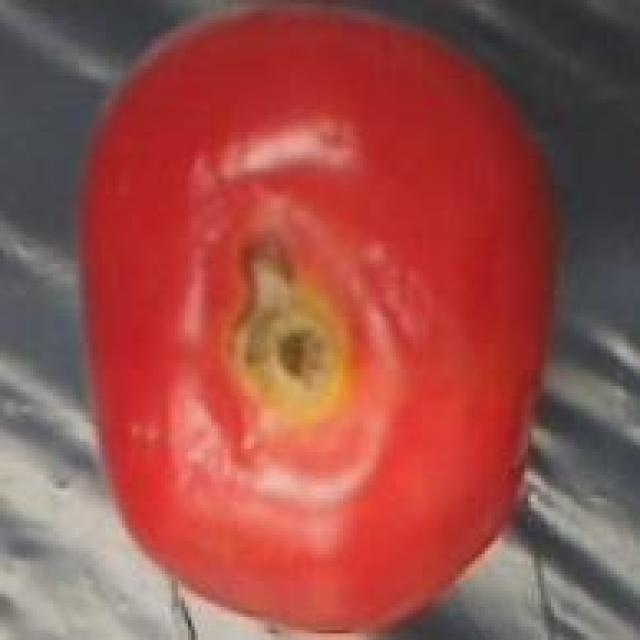overripe tomato: (63, 0, 577, 640)
